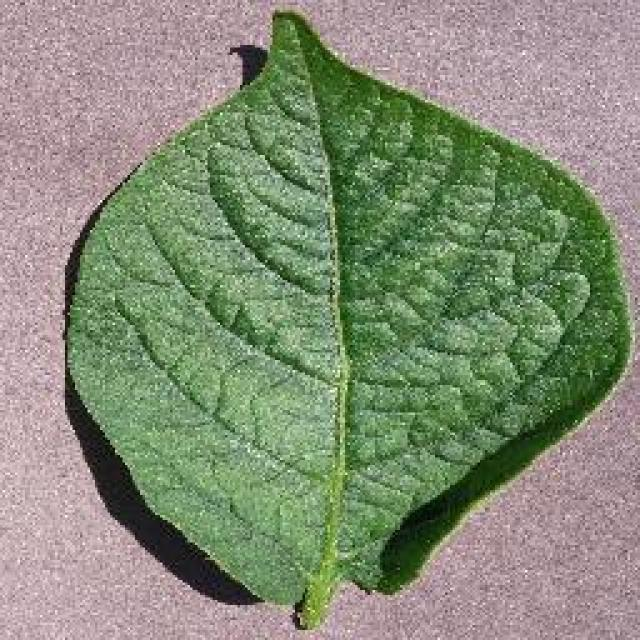Potato: (60, 5, 635, 627)
